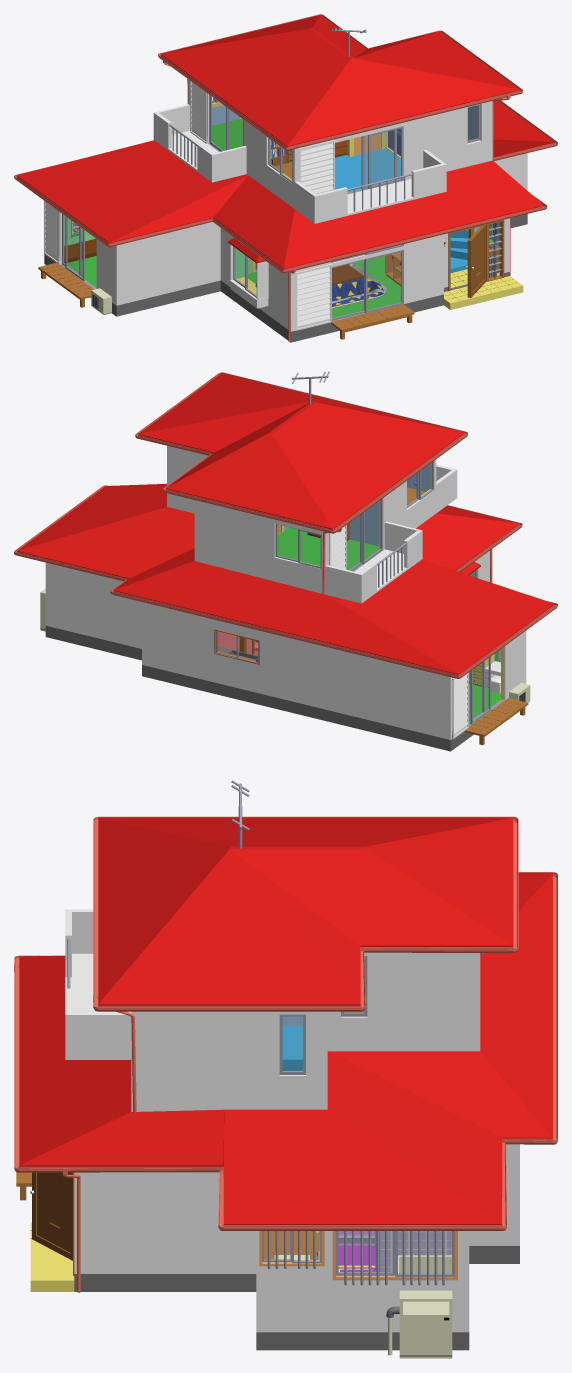
The model's file is shinchan_house.glb.
3 views of the same model, one above another, from view 1: azimuth 30°, elevation 25°; view 2: azimuth 150°, elevation 25°; view 3: azimuth 270°, elevation 25° (orthographic). The views are drawn at different scales.
Parts seen in each view (by area): view 1: Object_28, Object_22, Object_25, Object_33, Object_35, Object_38, Object_42, Object_51, Object_53, Object_54, Object_39, Object_31 (+3 smaller); view 2: Object_28, Object_22, Object_33, Object_42, Object_35, Object_51, Object_25, Object_38, Object_47, Object_54, Object_24; view 3: Object_28, Object_22, Object_33, Object_42, Object_35, Object_24, Object_39, Object_18, Object_54, Object_20, Object_53, Object_32.
Part boxes in pixels (box(x1,y1,x2,y2)): Object_28: box(17, 15, 554, 269); Object_22: box(44, 79, 527, 331); Object_25: box(68, 97, 500, 317); Object_33: box(14, 14, 557, 342); Object_35: box(61, 28, 501, 321); Object_38: box(38, 150, 504, 339); Object_42: box(44, 214, 527, 342); Object_51: box(67, 119, 493, 318); Object_53: box(270, 140, 468, 272); Object_54: box(212, 102, 523, 309); Object_39: box(270, 146, 499, 297); Object_31: box(332, 263, 387, 308); Object_28: box(17, 373, 554, 674); Object_22: box(45, 445, 526, 739); Object_33: box(14, 372, 557, 678); Object_42: box(45, 625, 525, 751); Object_35: box(216, 371, 504, 726); Object_51: box(277, 527, 501, 721); Object_25: box(347, 500, 482, 718); Object_38: box(214, 487, 528, 745); Object_47: box(284, 463, 430, 546); Object_54: box(281, 463, 503, 699); Object_24: box(40, 588, 530, 702); Object_28: box(19, 817, 552, 1224); Object_22: box(30, 909, 519, 1332); Object_33: box(14, 816, 557, 1292); Object_42: box(74, 1246, 519, 1350); Object_35: box(67, 780, 454, 1285); Object_24: box(274, 1255, 452, 1358); Object_39: box(32, 1172, 72, 1260); Object_18: box(259, 1010, 457, 1280); Object_54: box(30, 1222, 374, 1291); Object_20: box(380, 1231, 451, 1271); Object_53: box(282, 1026, 302, 1070); Object_32: box(338, 1246, 374, 1271).
Size of what is drawn, in the model's own units: 15.94 by 8.59 by 10.32.
39 materials, 8 textured.
